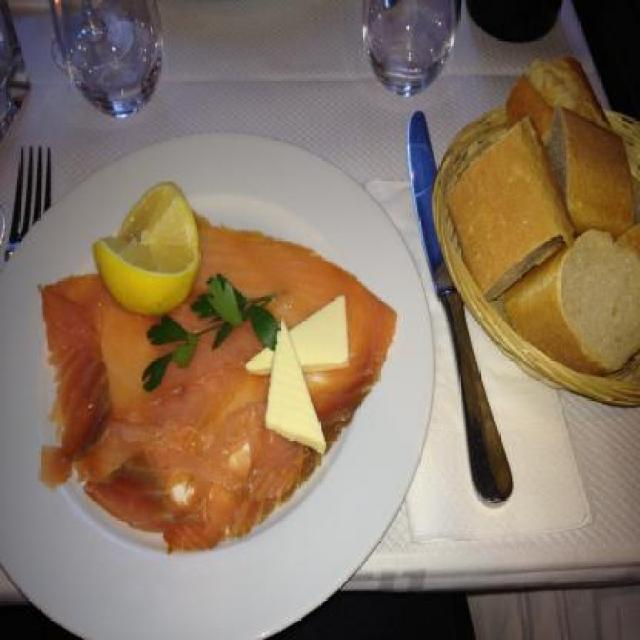Lemon: (92, 180, 204, 317)
